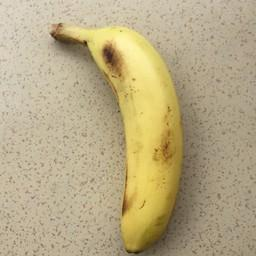Good_banana: (48, 13, 185, 256)
